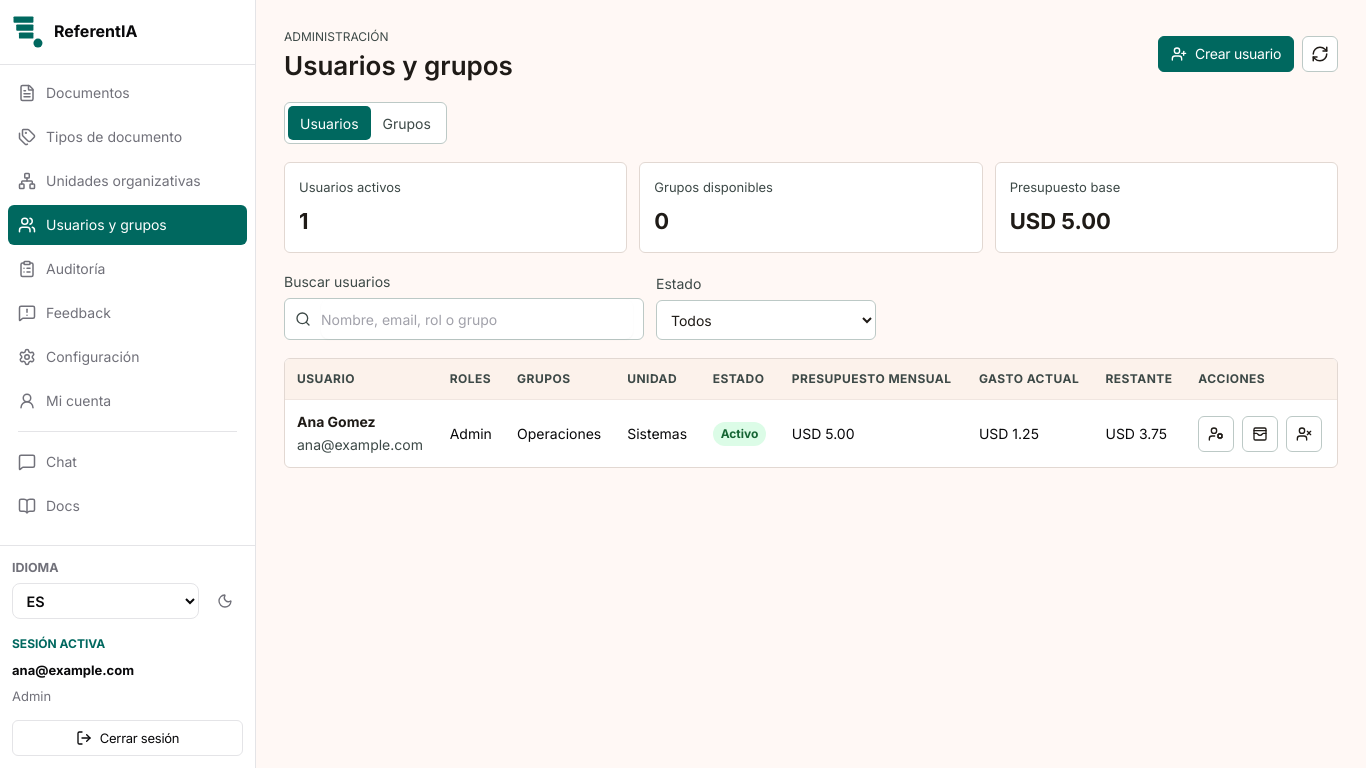
Scenario: management users and budgets › deactivates a user with a logical delete action
Click the button named "Dar de baja a Ana Gomez" at (1304, 434), box [1286,416,1322,452]
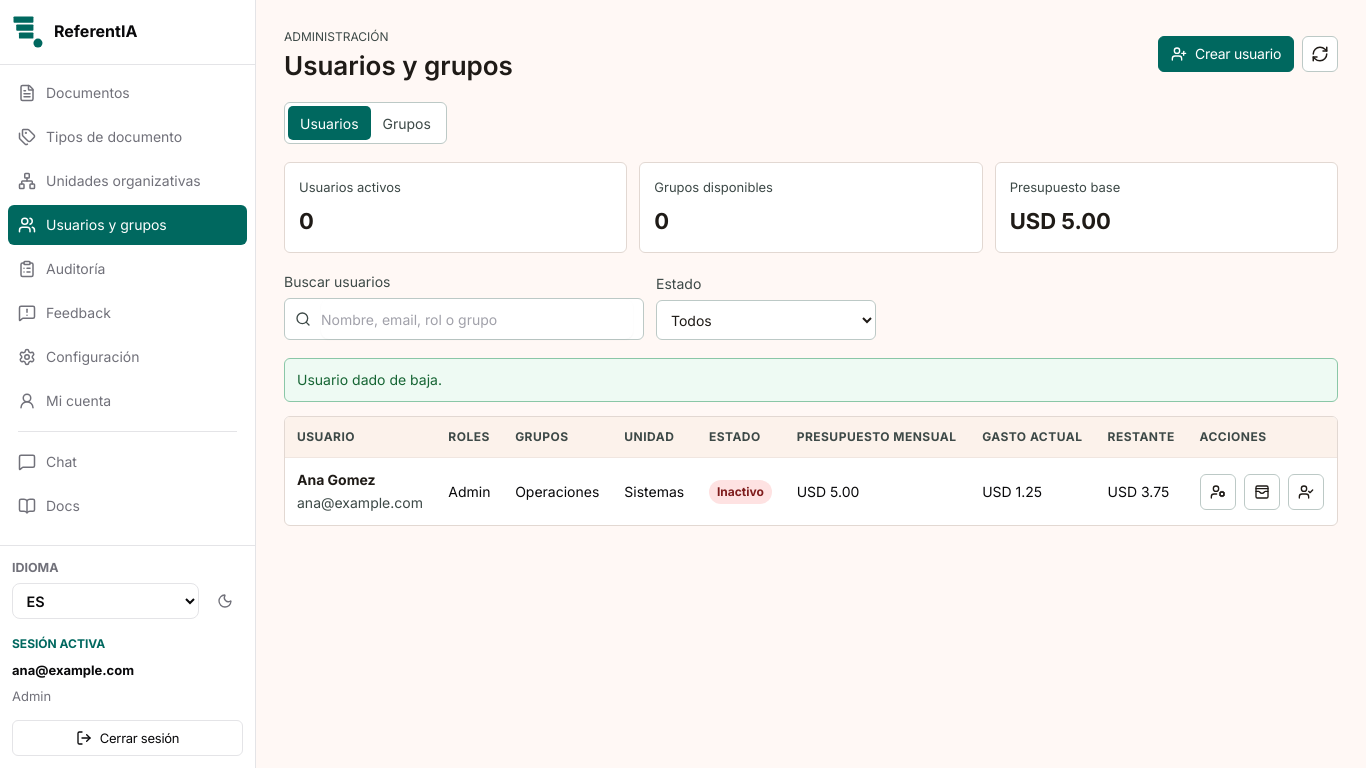
Result: the text "Usuario dado de baja." is shown at [284,358,1338,402]
Result: the text "Inactivo" is shown at [709,480,772,504]
